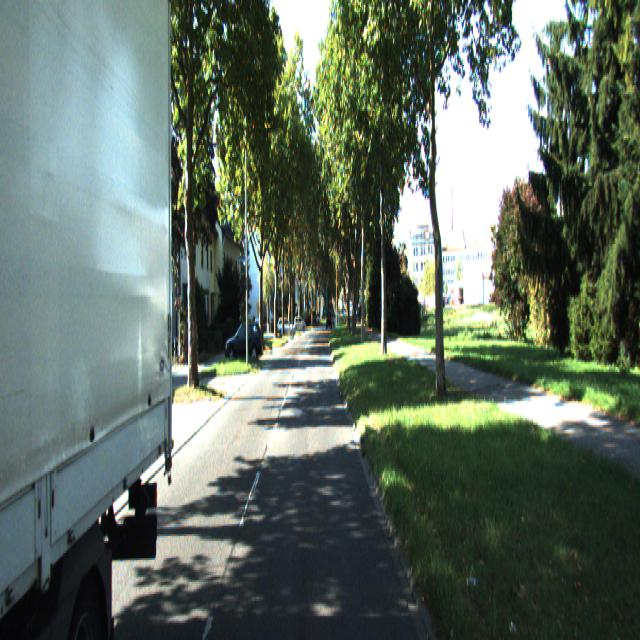Car: (30, 0, 185, 639), (223, 321, 262, 365)
